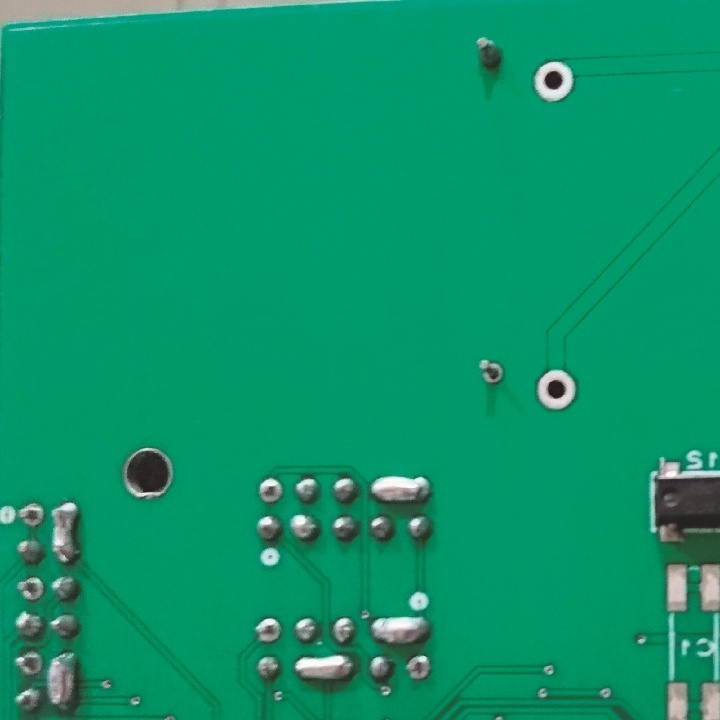F: (528, 60, 577, 112), (535, 366, 574, 414), (473, 355, 509, 392), (256, 475, 285, 509), (253, 615, 284, 646), (16, 498, 44, 528), (16, 576, 44, 605), (13, 649, 44, 675), (405, 655, 433, 680)
P: (370, 473, 430, 510), (48, 500, 79, 569), (44, 649, 79, 709), (288, 655, 356, 685), (368, 618, 433, 647)
